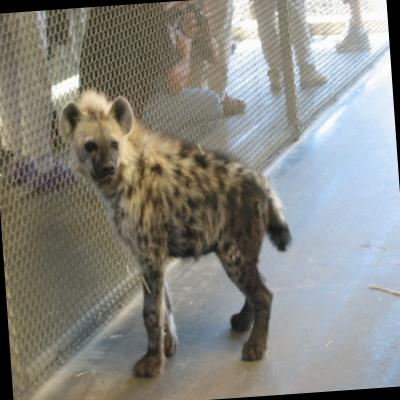hyenas: (50, 74, 354, 385)
